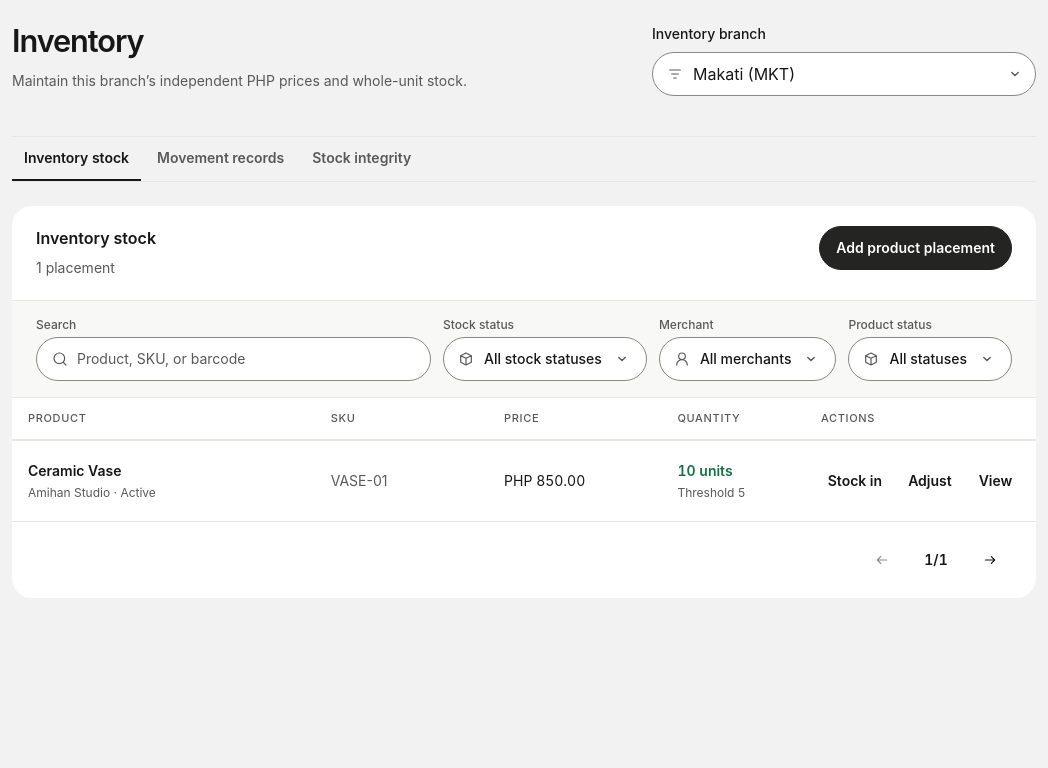
Test case: InventoryDirectory workflows › keeps loaded rows and retries a failed later page
Step 1. Click the button named "Next" → (990, 560), box [968,538,1012,582]
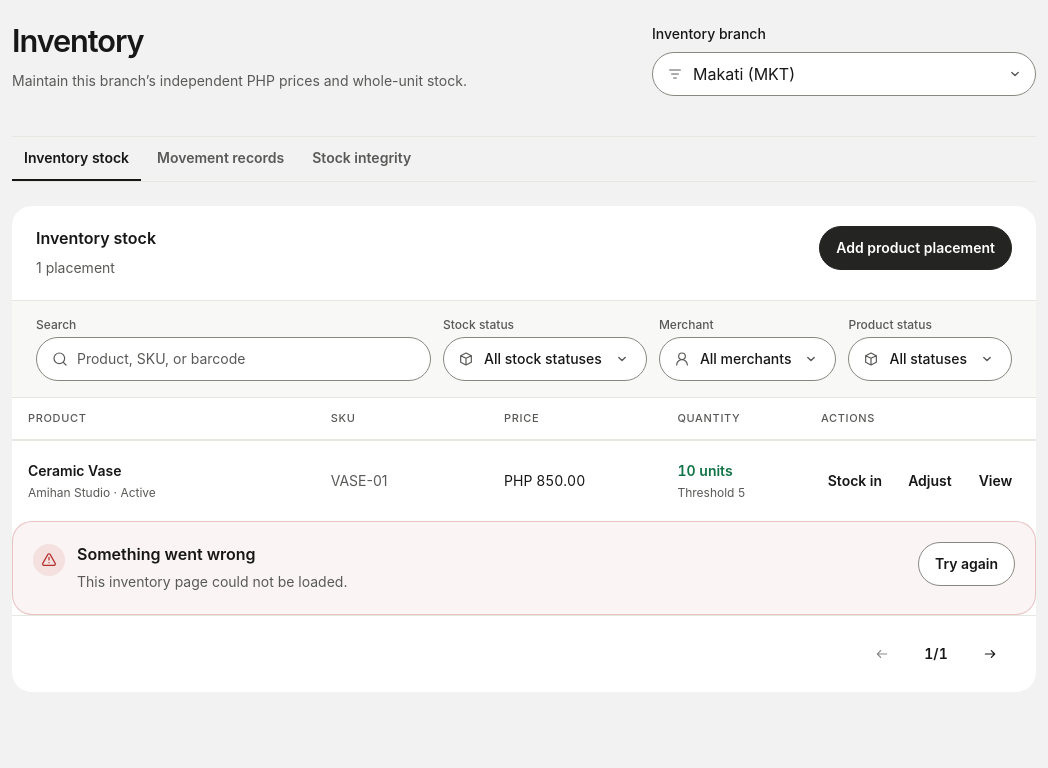
Check: the text "PHP 850.00" is shown, box [504,472,585,488]
Check: the message shows "This inventory page could not be loaded", box [77,572,348,590]
Step 2. Click the button named "Next" → (990, 654), box [968,632,1012,676]
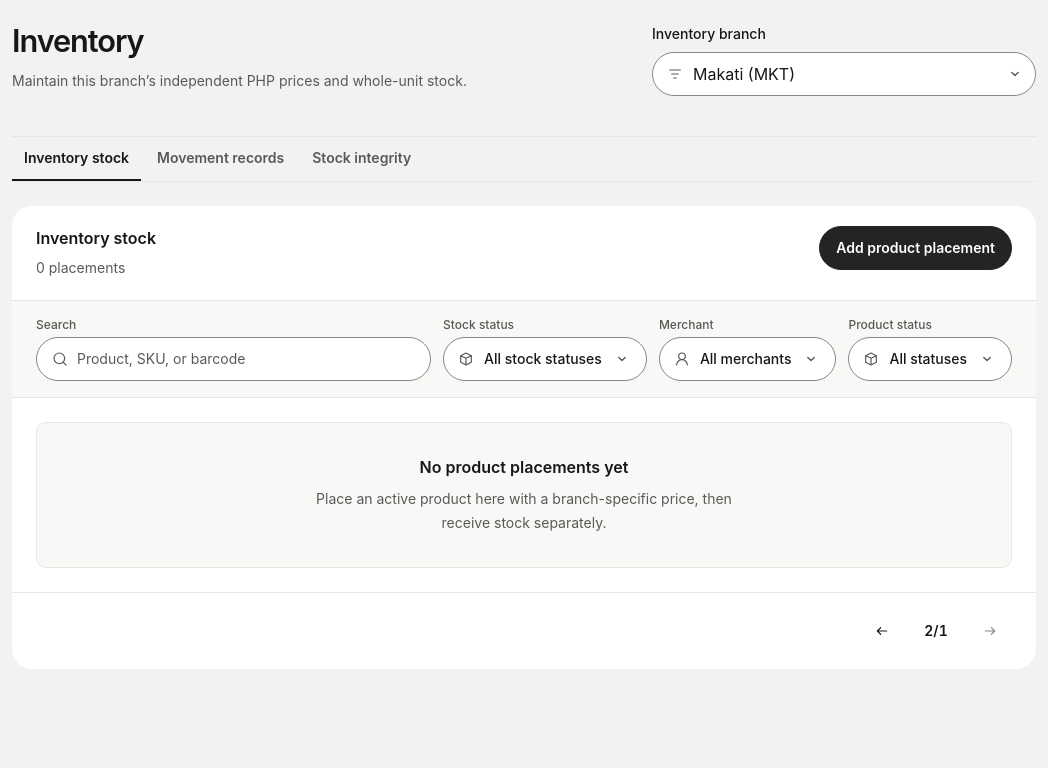
Check: the text "This inventory page could not be loaded." is gone
